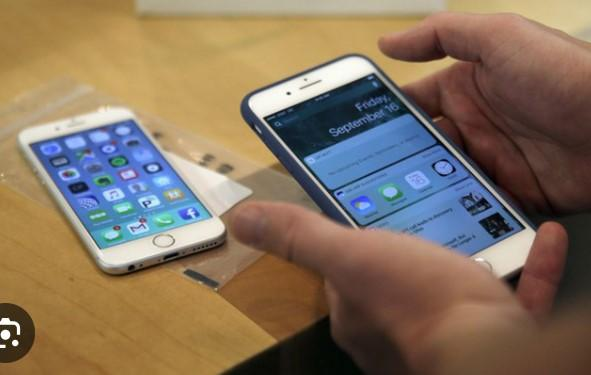Smart Phone: (239, 54, 537, 291), (15, 109, 227, 277)
